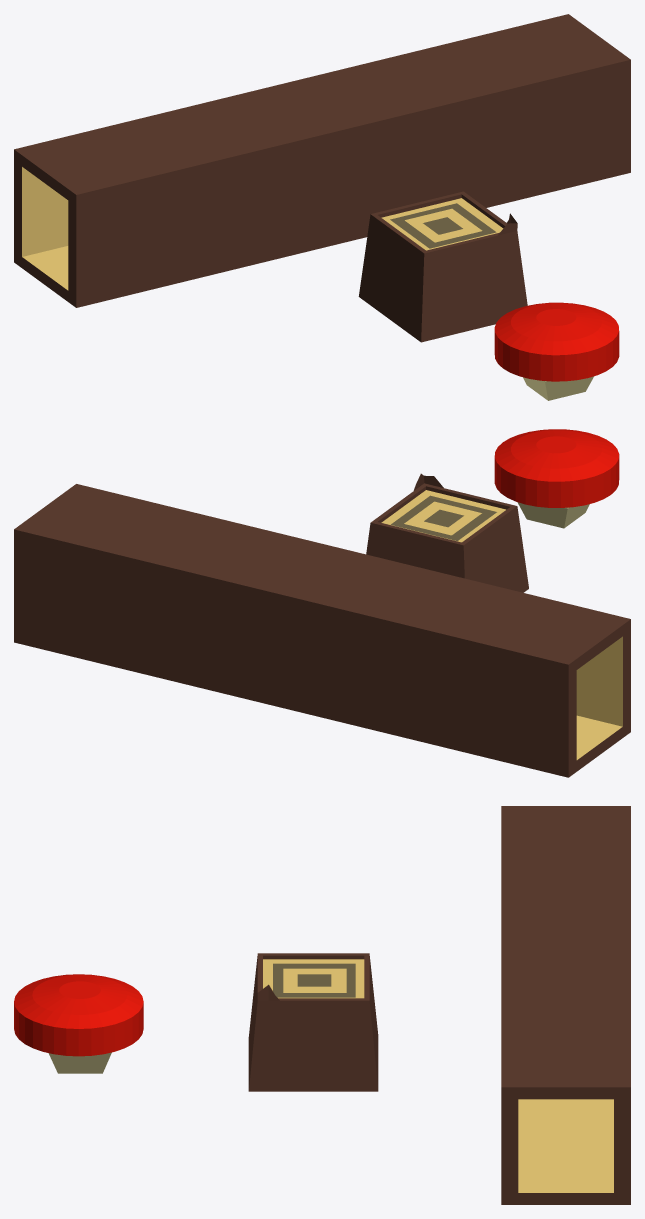
The model's file is mushroom.glb.
3 views of the same model, one above another, from view 1: azimuth 30°, elevation 25°; view 2: azimuth 150°, elevation 25°; view 3: azimuth 270°, elevation 25° (orthographic). The views are drawn at different scales.
Parts seen in each view (by area): view 1: Cube, stump, Circle, Cube.001; view 2: Cube, stump, Circle, Cube.001; view 3: Cube, stump, Circle, Cube.001.
Boxes of the visible parts, x1,y1,x2,y2 form: Cube: [14, 14, 630, 307]; stump: [358, 191, 527, 342]; Circle: [494, 302, 619, 381]; Cube.001: [523, 376, 593, 400]; Cube: [14, 484, 630, 777]; stump: [366, 473, 528, 592]; Circle: [494, 429, 619, 507]; Cube.001: [517, 502, 589, 528]; Cube: [501, 806, 630, 1204]; stump: [248, 953, 378, 1091]; Circle: [14, 974, 143, 1056]; Cube.001: [48, 1052, 111, 1073].
Bounding box in the file's own units: 10.27 × 2 × 9.52.
